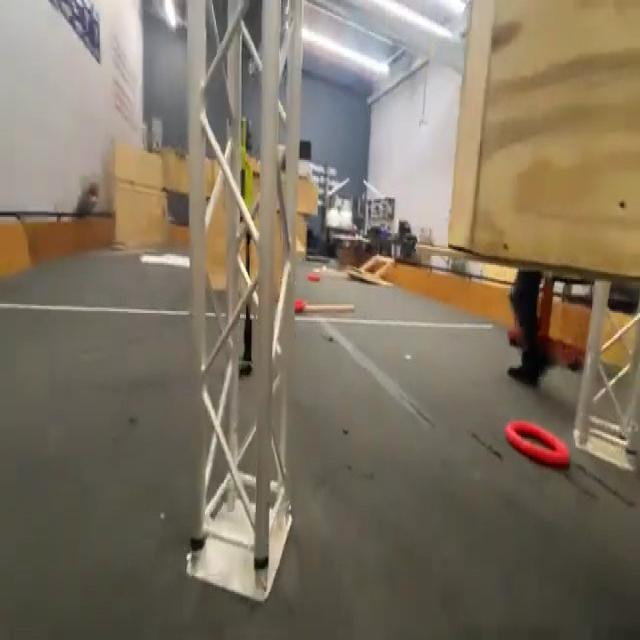note: (503, 418, 568, 469)
